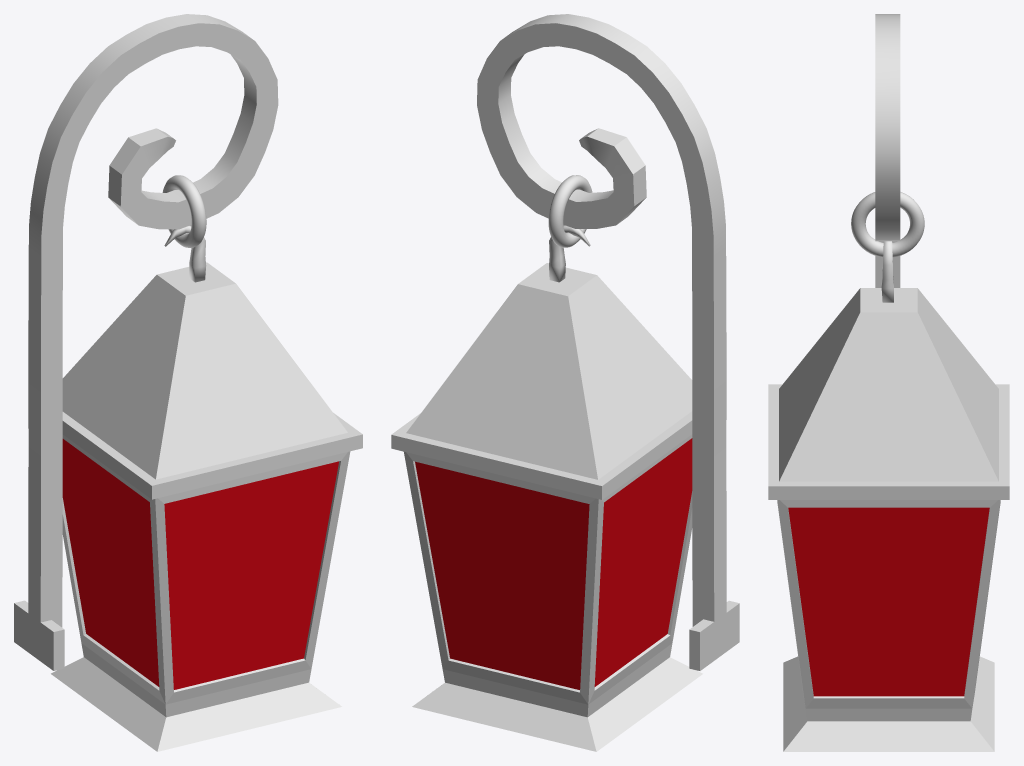
The model's file is Wallantern Variant.fbx.
3 views of the same model, side by side, from view 1: azimuth 30°, elevation 25°; view 2: azimuth 150°, elevation 25°; view 3: azimuth 270°, elevation 25° (orthographic).
Visible parts, largest first — view 1: Sign.005, Cube.045; view 2: Sign.005, Cube.045; view 3: Sign.005, Cube.045.
Part boxes in pixels (box(x1,y1,x2,y2)): Sign.005: box(51, 175, 362, 751); Cube.045: box(14, 14, 278, 670); Sign.005: box(391, 175, 702, 751); Cube.045: box(477, 14, 739, 670); Sign.005: box(768, 192, 1009, 751); Cube.045: box(875, 14, 900, 287).
Size of the model in its own units: 62.04 by 149 by 48.84.
